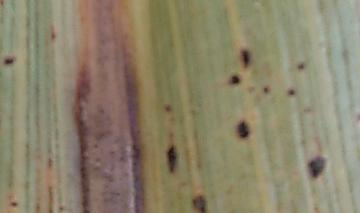tarspot: (308, 156, 327, 179), (167, 143, 178, 174), (236, 119, 252, 140), (191, 193, 207, 212), (239, 48, 251, 67), (1, 56, 17, 66), (229, 74, 240, 84), (163, 103, 173, 112), (287, 86, 296, 95), (296, 61, 305, 70), (50, 32, 57, 41), (263, 86, 272, 93), (10, 201, 20, 207)
